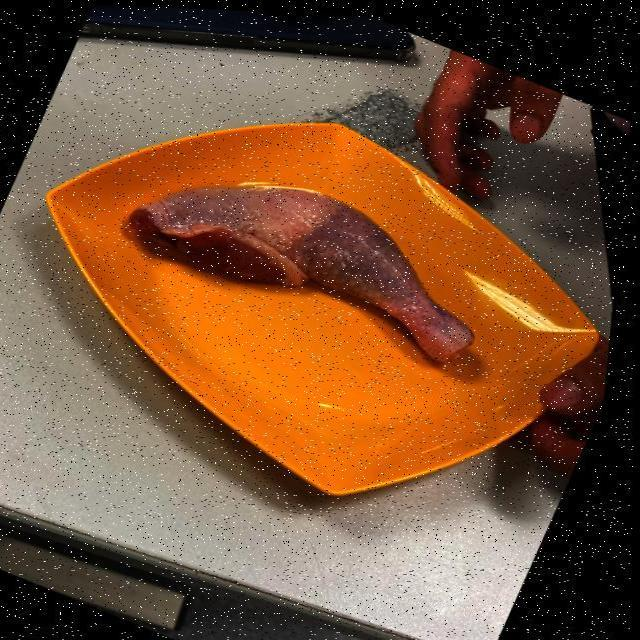quater: (134, 180, 468, 371)
